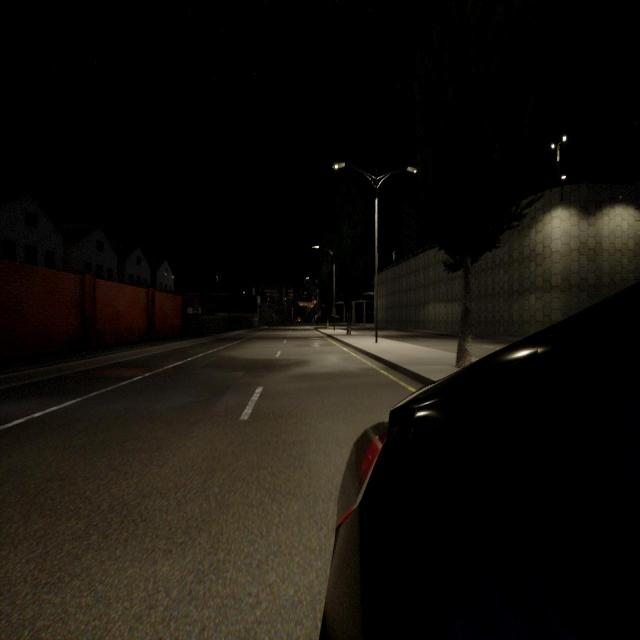Vehicle: (320, 282, 640, 638)
